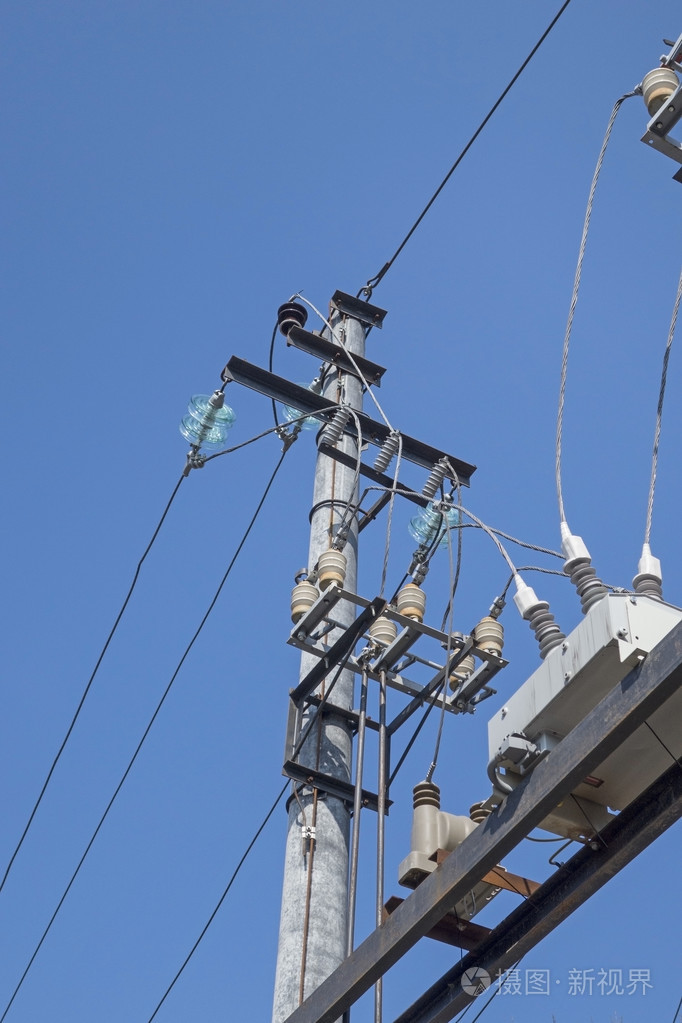insulator: (177, 394, 234, 451), (411, 496, 458, 549)
